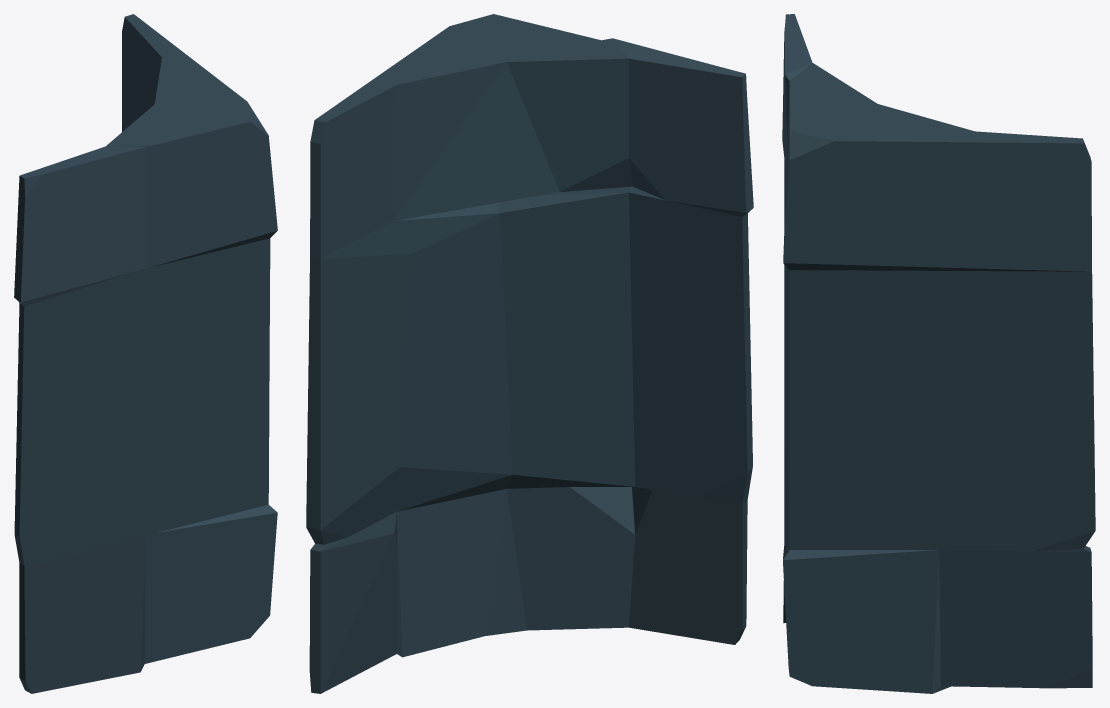
Rendered from level_element_round_corner_4x2x2_conc.fbx.
3 renders of one model, left to right at view 1: azimuth 30°, elevation 25°; view 2: azimuth 150°, elevation 25°; view 3: azimuth 270°, elevation 25°, orthographic. The views are drawn at different scales.
Parts seen in each view (by area): view 1: level_element_round_corner_4x2x2_conc; view 2: level_element_round_corner_4x2x2_conc; view 3: level_element_round_corner_4x2x2_conc.
Boxes of the visible parts, left/top/right/bottom form: level_element_round_corner_4x2x2_conc: left=14, top=14, right=277, bottom=693; level_element_round_corner_4x2x2_conc: left=306, top=14, right=753, bottom=693; level_element_round_corner_4x2x2_conc: left=782, top=14, right=1095, bottom=693.
Size of the model in its own units: 209 by 406 by 208.
